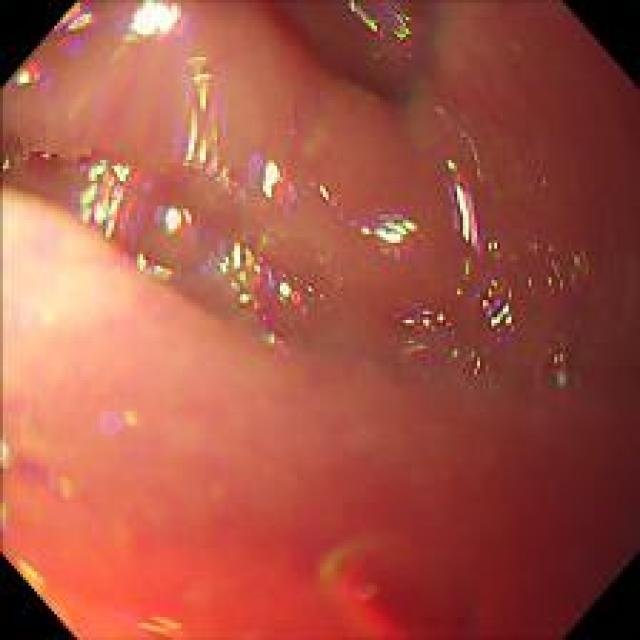blur: (4, 2, 635, 635)
color misalignment: (214, 236, 322, 334), (318, 182, 425, 258), (170, 48, 230, 182), (486, 231, 590, 301), (74, 148, 155, 231), (390, 295, 461, 380), (240, 134, 304, 220), (444, 155, 486, 258), (342, 0, 416, 45), (472, 274, 522, 340), (14, 449, 78, 500), (1, 138, 74, 179), (151, 201, 211, 244), (114, 244, 175, 280), (10, 54, 59, 96), (55, 2, 105, 39), (99, 400, 145, 436), (462, 344, 499, 386), (451, 255, 478, 298), (549, 338, 570, 391), (261, 328, 290, 356), (196, 249, 221, 274)
specularity: (130, 2, 178, 36)
